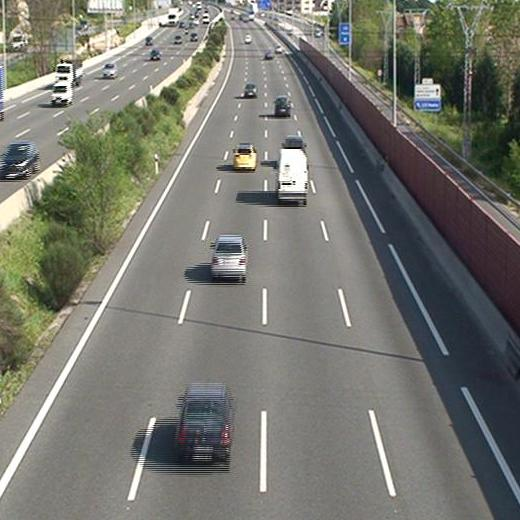car: (176, 386, 232, 459), (211, 237, 247, 277), (233, 145, 257, 169), (276, 98, 290, 115), (244, 85, 256, 96)
van: (277, 149, 308, 200)
